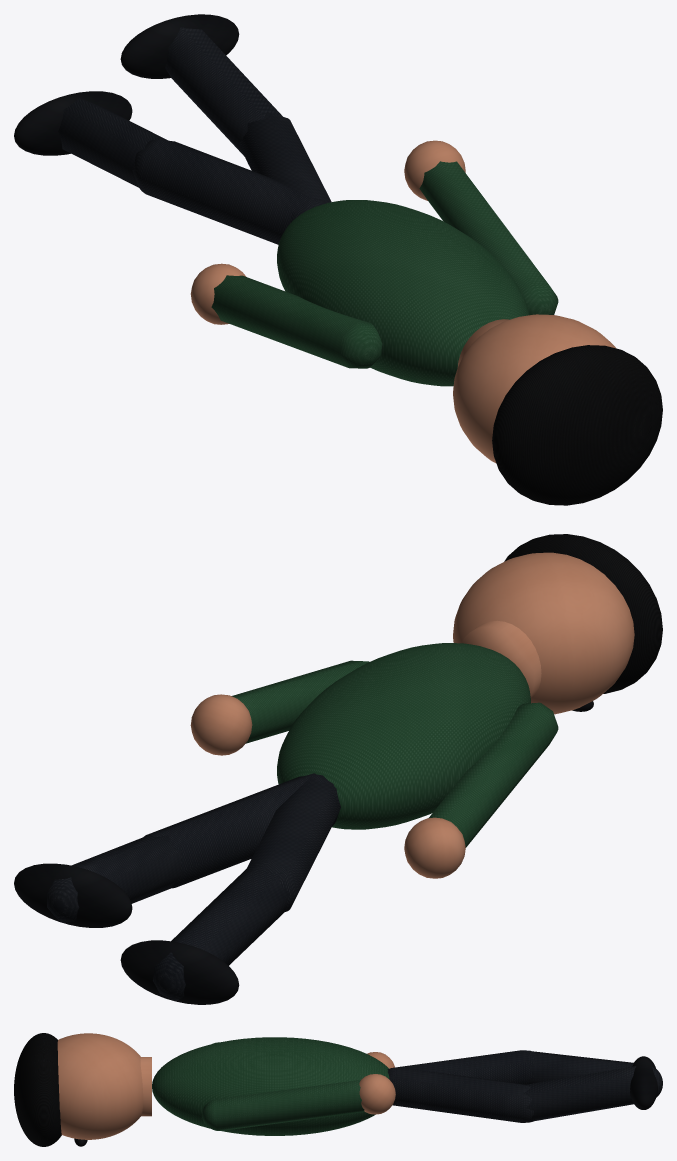
The model's file is CHAR_FEMALE_HERO_V4_001.glb.
3 renders of one model, top to bottom at view 1: azimuth 30°, elevation 25°; view 2: azimuth 150°, elevation 25°; view 3: azimuth 270°, elevation 25°, orthographic. The views are drawn at different scales.
Visible parts, largest first — view 1: char_female_hero_v4_001_torso, char_female_hero_v4_001_hair, char_female_hero_v4_001_leg_l, char_female_hero_v4_001_head, char_female_hero_v4_001_arm_l, char_female_hero_v4_001_arm_r, char_female_hero_v4_001_shin_r, char_female_hero_v4_001_shin_l, char_female_hero_v4_001_leg_r, char_female_hero_v4_001_shoe_r, char_female_hero_v4_001_shoe_l, char_female_hero_v4_001_hand_r (+1 smaller); view 2: char_female_hero_v4_001_torso, char_female_hero_v4_001_head, char_female_hero_v4_001_shin_l, char_female_hero_v4_001_arm_l, char_female_hero_v4_001_leg_r, char_female_hero_v4_001_leg_l, char_female_hero_v4_001_hair, char_female_hero_v4_001_shin_r, char_female_hero_v4_001_shoe_l, char_female_hero_v4_001_shoe_r, char_female_hero_v4_001_arm_r, char_female_hero_v4_001_hand_r (+2 smaller); view 3: char_female_hero_v4_001_torso, char_female_hero_v4_001_head, char_female_hero_v4_001_leg_r, char_female_hero_v4_001_arm_r, char_female_hero_v4_001_hair, char_female_hero_v4_001_shin_r, char_female_hero_v4_001_leg_l, char_female_hero_v4_001_shin_l, char_female_hero_v4_001_hand_r, char_female_hero_v4_001_shoe_r, char_female_hero_v4_001_neck, char_female_hero_v4_001_hand_l.
Boxes of the visible parts, x1,y1,x2,y2 form: char_female_hero_v4_001_torso: [277, 200, 529, 386]; char_female_hero_v4_001_hair: [492, 345, 662, 505]; char_female_hero_v4_001_leg_l: [132, 139, 326, 244]; char_female_hero_v4_001_head: [453, 314, 616, 462]; char_female_hero_v4_001_arm_l: [211, 275, 382, 368]; char_female_hero_v4_001_arm_r: [419, 161, 558, 315]; char_female_hero_v4_001_shin_r: [165, 27, 283, 156]; char_female_hero_v4_001_shin_l: [58, 98, 167, 191]; char_female_hero_v4_001_leg_r: [239, 112, 331, 222]; char_female_hero_v4_001_shoe_r: [120, 14, 239, 78]; char_female_hero_v4_001_shoe_l: [14, 91, 132, 155]; char_female_hero_v4_001_hand_r: [404, 140, 465, 200]; char_female_hero_v4_001_torso: [277, 643, 530, 829]; char_female_hero_v4_001_head: [453, 552, 634, 714]; char_female_hero_v4_001_shin_l: [153, 863, 290, 1001]; char_female_hero_v4_001_arm_l: [428, 702, 558, 847]; char_female_hero_v4_001_leg_r: [144, 774, 340, 888]; char_female_hero_v4_001_leg_l: [246, 773, 340, 911]; char_female_hero_v4_001_hair: [504, 534, 662, 693]; char_female_hero_v4_001_shin_r: [46, 835, 184, 922]; char_female_hero_v4_001_shoe_l: [120, 940, 239, 1004]; char_female_hero_v4_001_shoe_r: [14, 863, 132, 927]; char_female_hero_v4_001_arm_r: [231, 660, 369, 743]; char_female_hero_v4_001_hand_r: [190, 694, 252, 755]; char_female_hero_v4_001_torso: [152, 1037, 389, 1135]; char_female_hero_v4_001_head: [57, 1033, 143, 1139]; char_female_hero_v4_001_leg_r: [387, 1067, 534, 1122]; char_female_hero_v4_001_arm_r: [202, 1080, 364, 1130]; char_female_hero_v4_001_hair: [14, 1033, 61, 1146]; char_female_hero_v4_001_shin_r: [523, 1066, 662, 1120]; char_female_hero_v4_001_leg_l: [388, 1050, 535, 1105]; char_female_hero_v4_001_shin_l: [528, 1051, 662, 1083]; char_female_hero_v4_001_hand_r: [359, 1074, 395, 1114]; char_female_hero_v4_001_shoe_r: [630, 1057, 657, 1109]; char_female_hero_v4_001_neck: [140, 1057, 151, 1116]; char_female_hero_v4_001_hand_l: [367, 1052, 394, 1068].
Bounding box in the file's own units: 0.55 × 0.2996 × 1.74.
5 materials, 5 textured.
